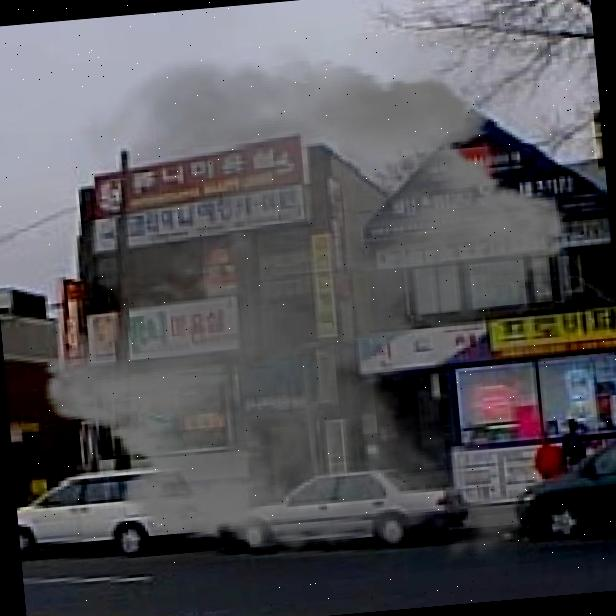smoke: (0, 15, 613, 614)
